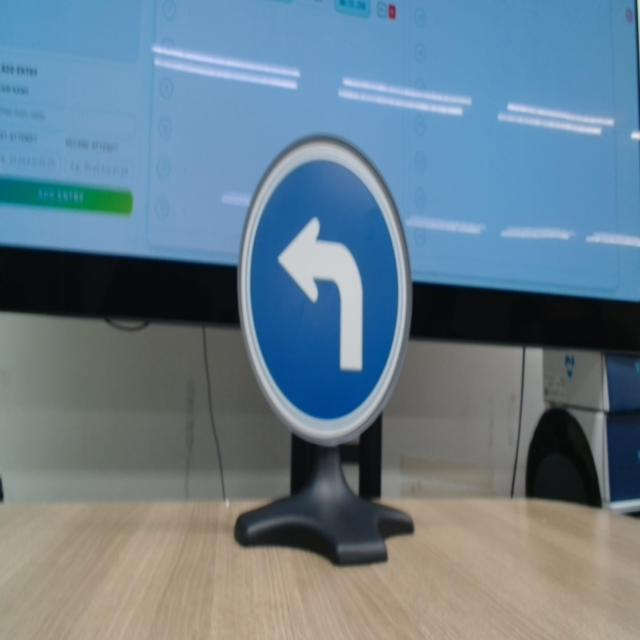left_direction: (224, 120, 413, 461)
